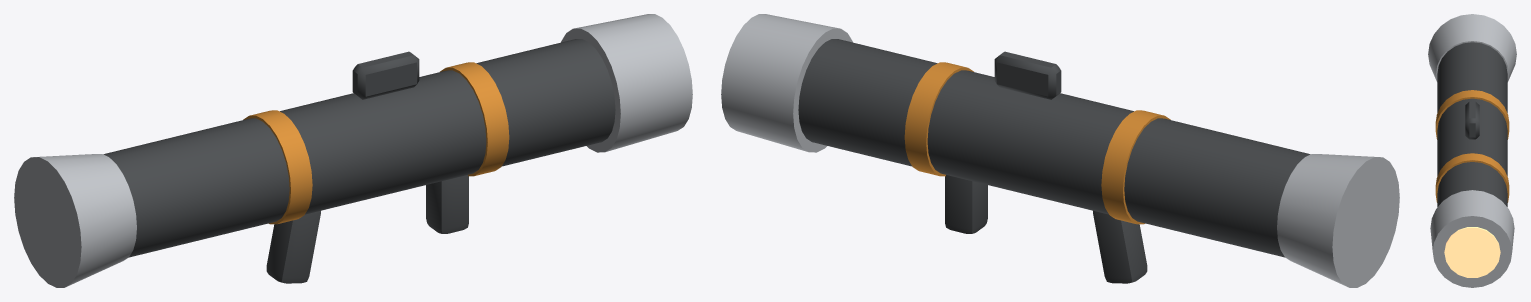
Rendered from pk_rocket.glb.
The picture shows the model from 3 angles, left to right: view 1: azimuth 30°, elevation 25°; view 2: azimuth 150°, elevation 25°; view 3: azimuth 270°, elevation 25°; orthographic projection. The views are drawn at different scales.
Visible parts, largest first — view 1: pk_rocket; view 2: pk_rocket; view 3: pk_rocket.
Boxes of the visible parts, bbox=[...] form: pk_rocket: bbox=[14, 14, 692, 287]; pk_rocket: bbox=[721, 14, 1399, 287]; pk_rocket: bbox=[1428, 14, 1516, 287].
Size of the model in its own units: 1 by 0.3064 by 0.19.
